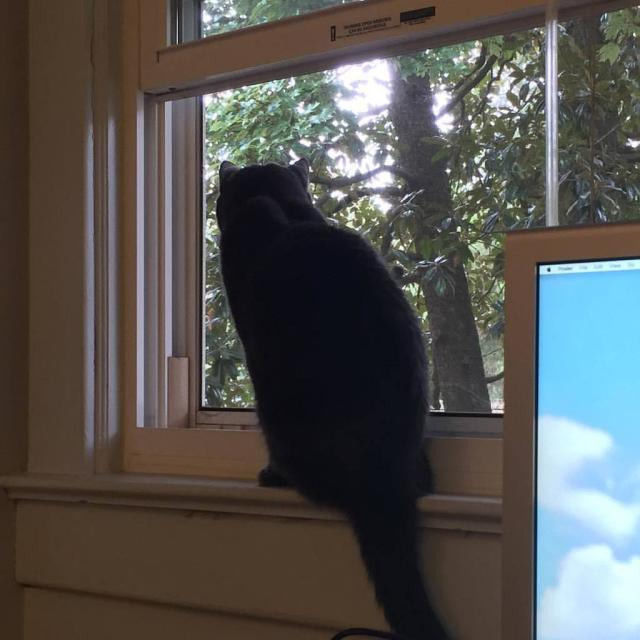Cat: (208, 156, 474, 638)
